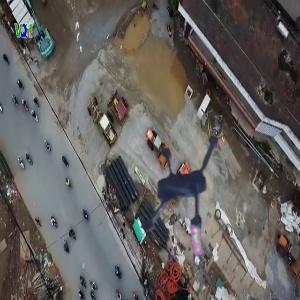drone: (112, 129, 258, 275)
